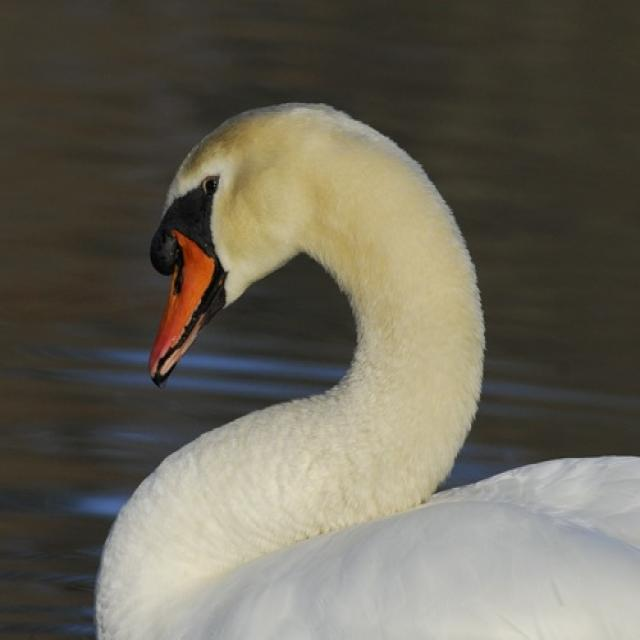bird: (93, 99, 639, 638)
